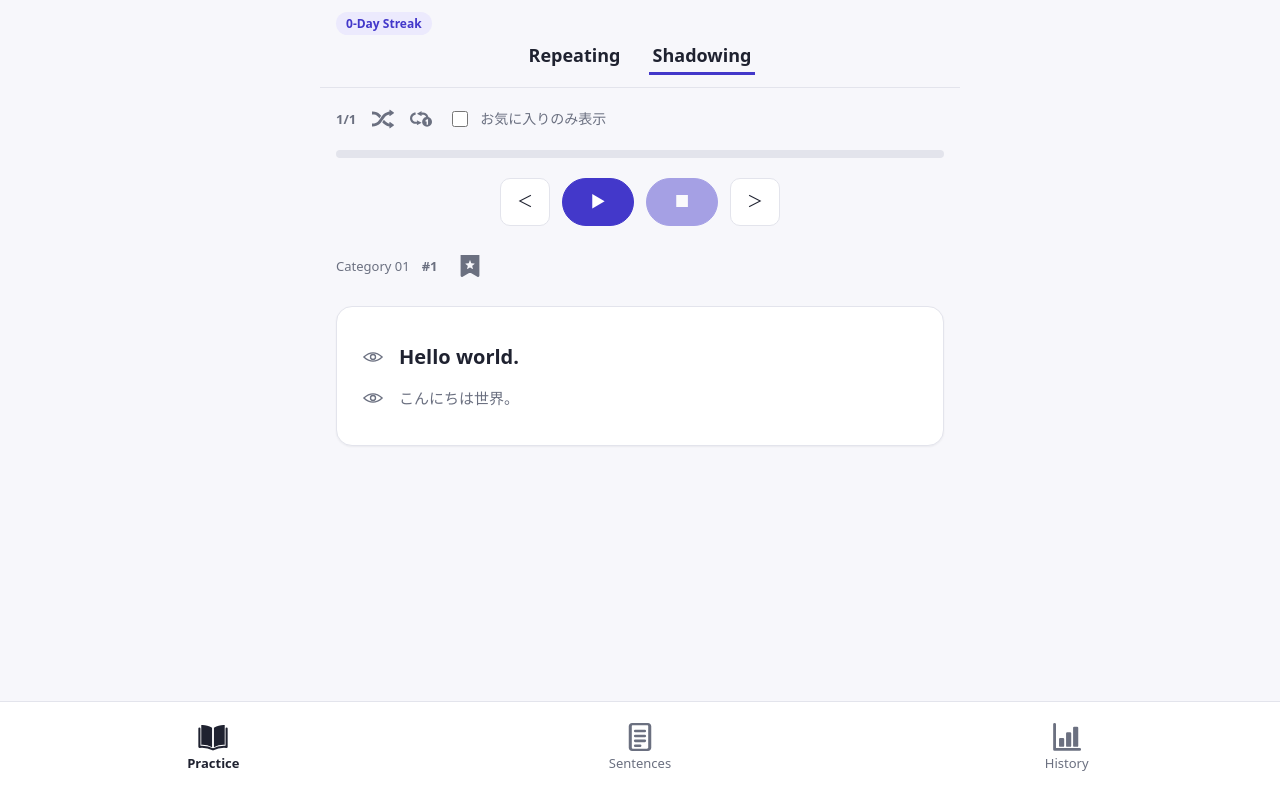
App › 英文選択画面の設定ボタンで設定画面が開き、閉じるボタンで英文選択画面に戻る
Expected: the text "Hello world." is shown, [399,342,519,372]
Click the button "Sentences": (640, 751) [427,702,853,799]
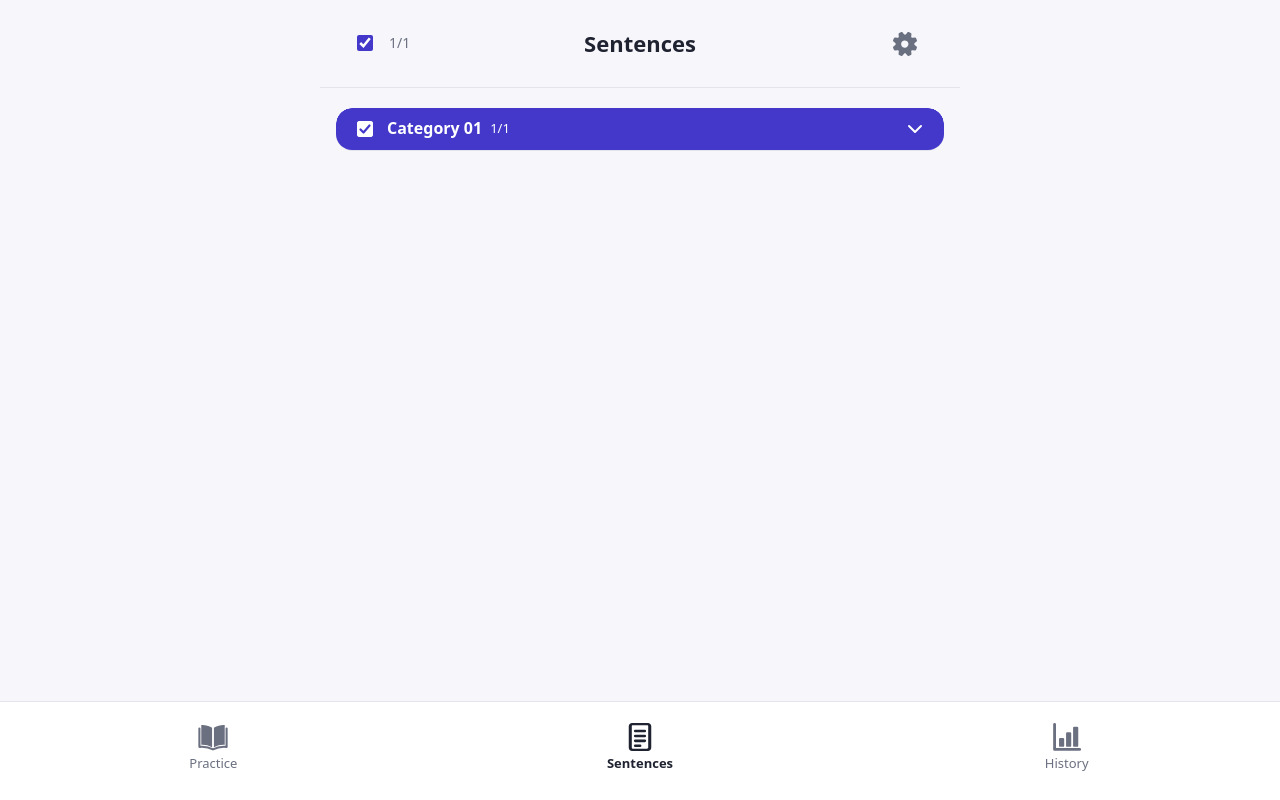
Now the heading "Category 01 1/1" is shown, box [387,108,927,150]
Click the button named "Settings": (905, 44) [883,22,927,66]
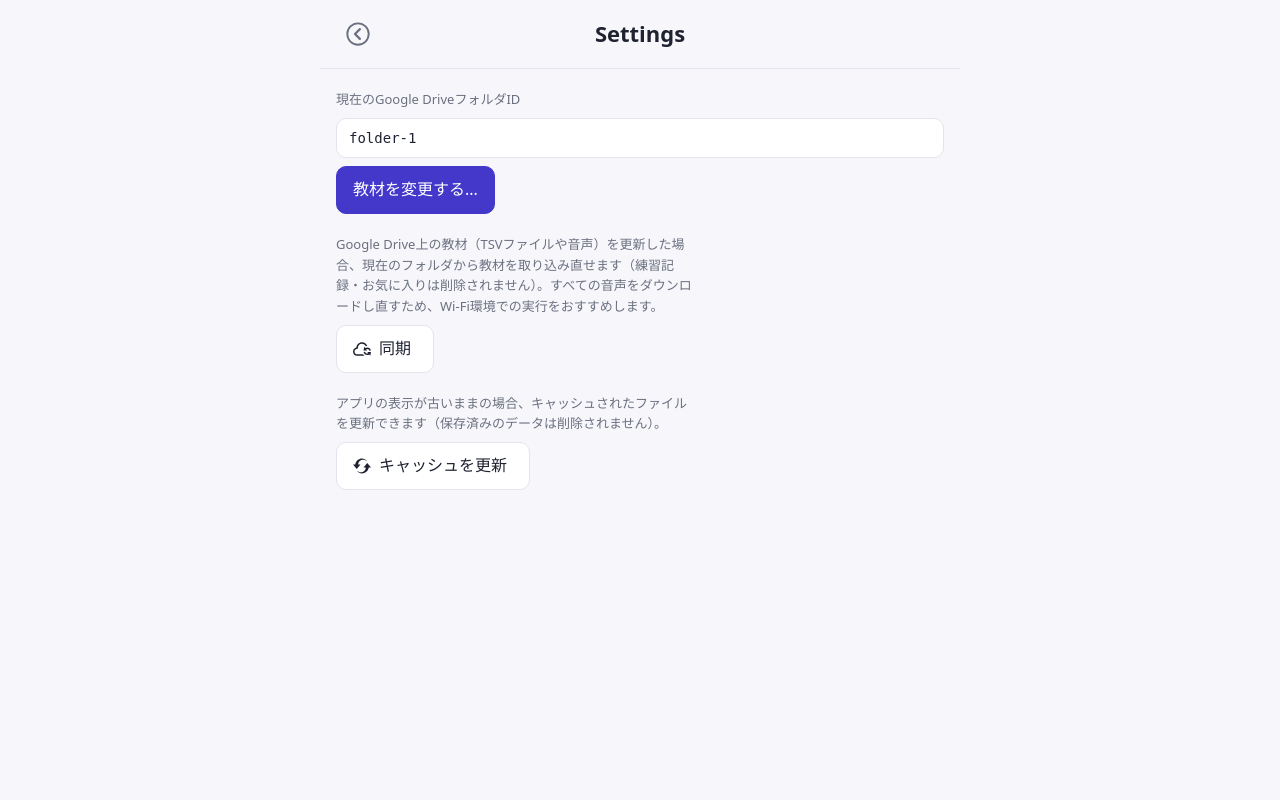
Now the heading "Settings" is shown, box [595,16,685,52]
Now the button "Practice" is gone
Click the button named "閉じる": (358, 34) [336,12,380,56]
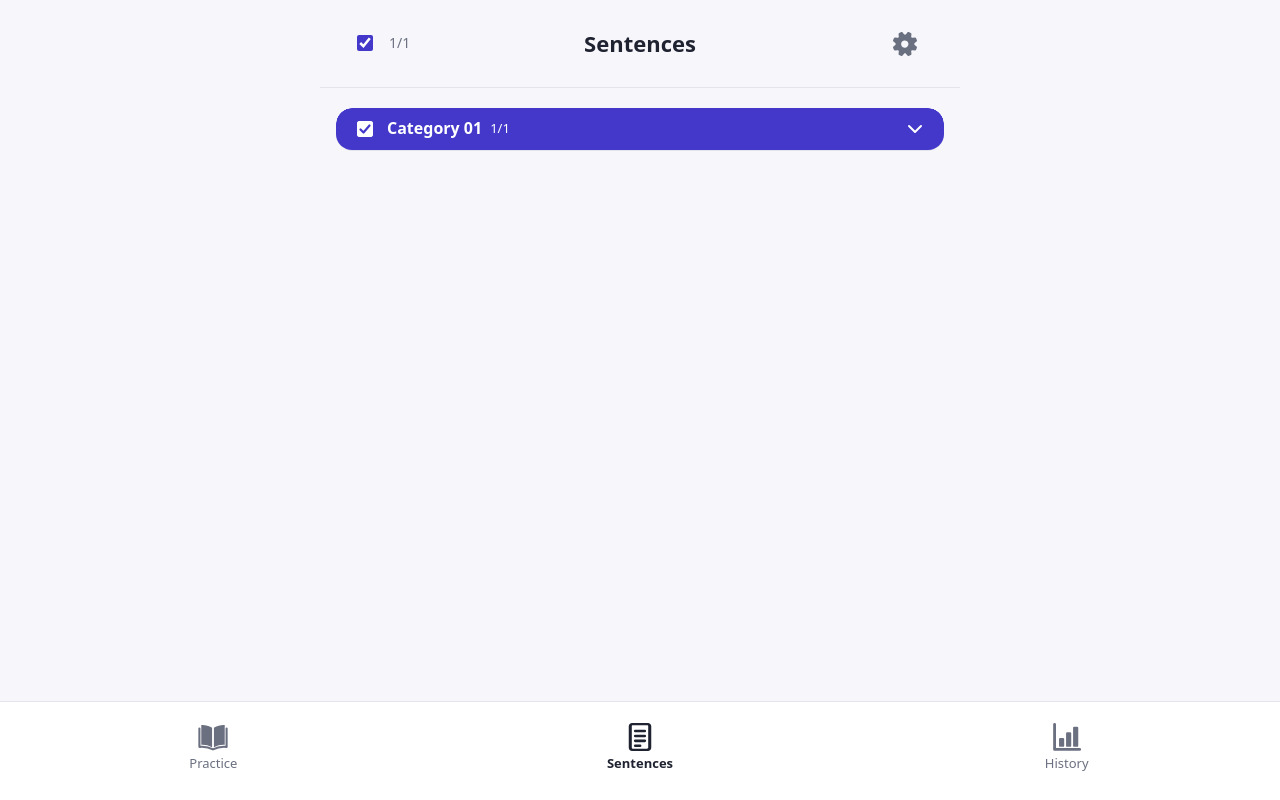
Now the heading "Category 01 1/1" is shown, box [387,108,927,150]
